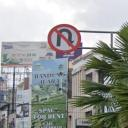NoVirarU: (47, 24, 81, 54)
